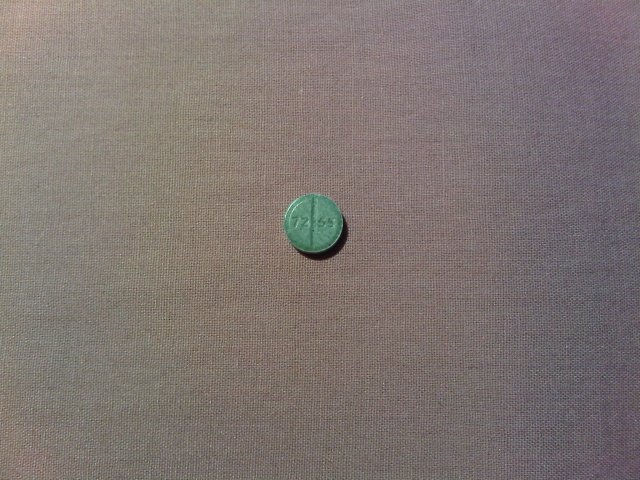2: (300, 215, 310, 228)
5: (326, 217, 338, 228), (316, 216, 326, 229)
7: (288, 214, 299, 229)
|: (308, 191, 319, 258)
